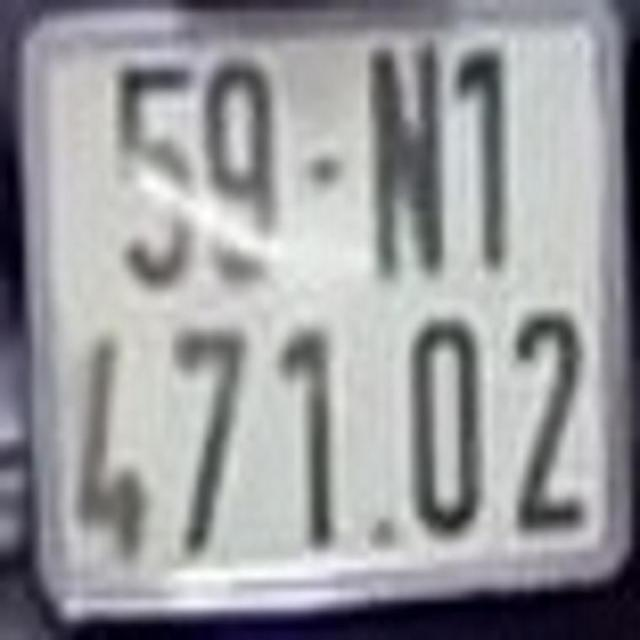0: (411, 321, 494, 534)
1: (277, 331, 341, 559), (454, 53, 517, 274)
2: (518, 304, 588, 530)
4: (82, 332, 148, 564)
5: (114, 59, 196, 288)
7: (164, 324, 246, 559)
9: (204, 59, 278, 280)
N: (362, 40, 452, 273)
